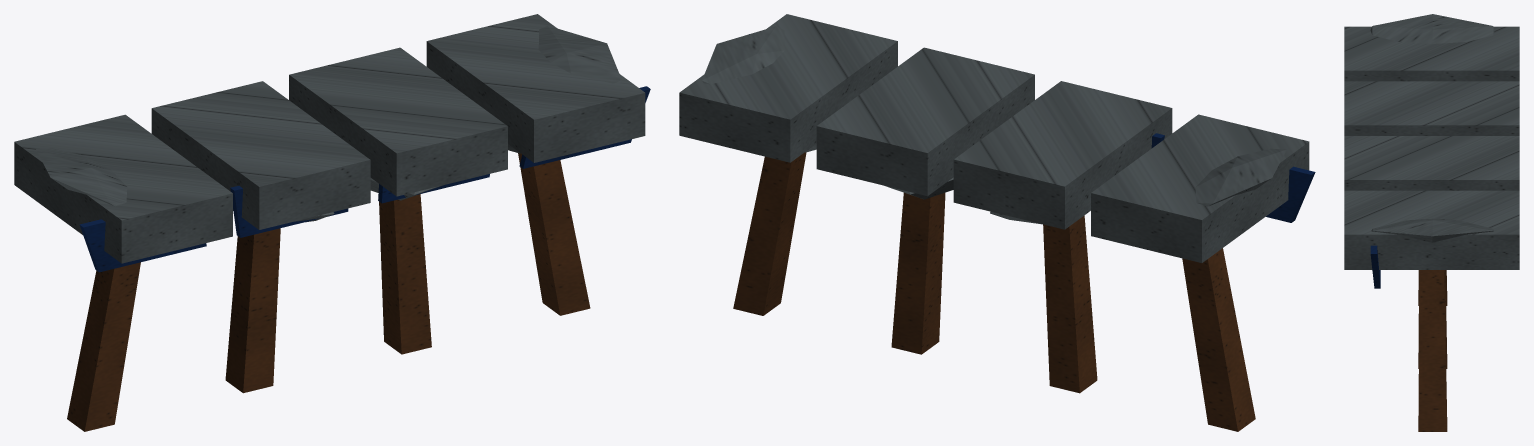
File: PROP-1B4657A9BD58.glb
The picture shows the model from 3 angles, left to right: view 1: azimuth 30°, elevation 25°; view 2: azimuth 150°, elevation 25°; view 3: azimuth 270°, elevation 25°; orthographic projection. The views are drawn at different scales.
Parts seen in each view (by area): view 1: mailbox_lower.002, mail_post.002, mailbox_round_roof.002, mailbox_door.002; view 2: mailbox_lower.002, mail_post.002, mailbox_round_roof.002, mailbox_door.002; view 3: mailbox_lower.002, mail_post.002, mailbox_round_roof.002, mailbox_door.002.
Part boxes in pixels (x1,y1,x2,y2): mailbox_lower.002: [14, 14, 645, 263]; mail_post.002: [67, 153, 590, 431]; mailbox_round_roof.002: [36, 25, 621, 222]; mailbox_door.002: [79, 86, 650, 272]; mailbox_lower.002: [679, 14, 1309, 262]; mail_post.002: [733, 152, 1255, 431]; mailbox_round_roof.002: [702, 26, 1286, 224]; mailbox_door.002: [749, 34, 1315, 222]; mailbox_lower.002: [1344, 26, 1519, 269]; mail_post.002: [1418, 270, 1447, 431]; mailbox_round_roof.002: [1370, 14, 1494, 242]; mailbox_door.002: [1370, 245, 1380, 288].
Bounding box in the file's own units: 1.2 × 0.515 × 0.3949.
Materials: 3 (3 with a texture image).
